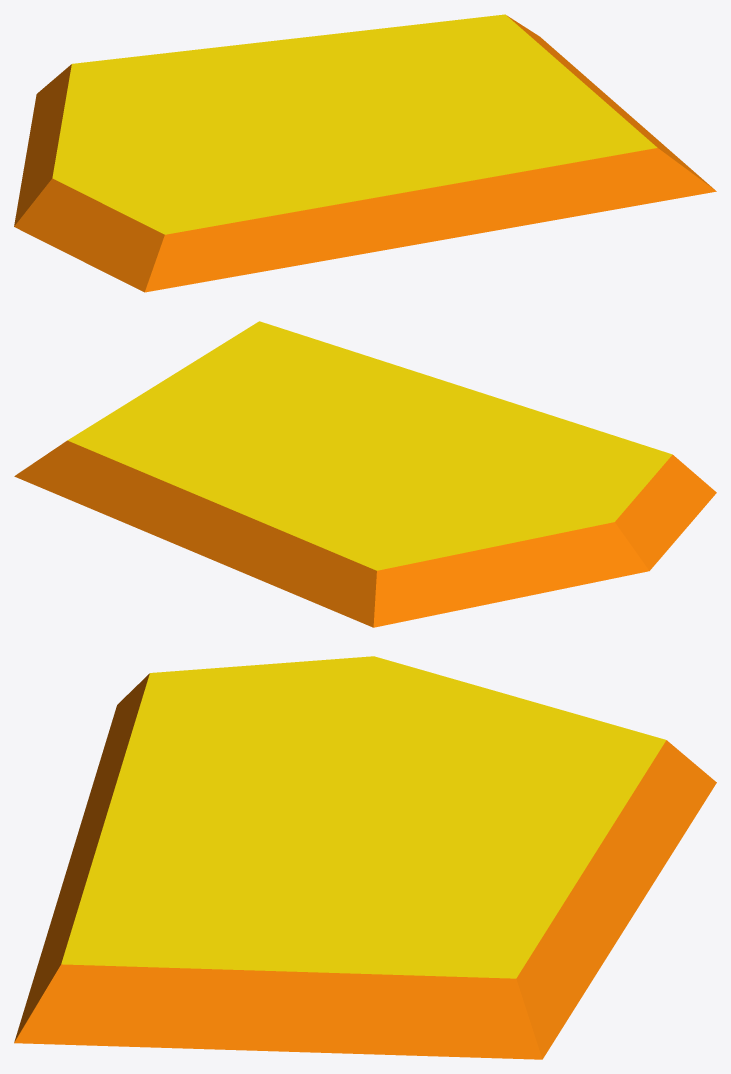
Rendered from RockFlat3.fbx.
The picture shows the model from 3 angles, top to bottom: view 1: azimuth 30°, elevation 25°; view 2: azimuth 150°, elevation 25°; view 3: azimuth 270°, elevation 25°; orthographic projection. The views are drawn at different scales.
Parts seen in each view (by area): view 1: RockFlat3; view 2: RockFlat3; view 3: RockFlat3.
Part boxes in pixels (x1,y1,x2,y2): RockFlat3: (14, 14, 716, 292); RockFlat3: (14, 321, 716, 627); RockFlat3: (14, 656, 716, 1059).
Size of the model in its own units: 2.61 by 2.07 by 0.1714.
